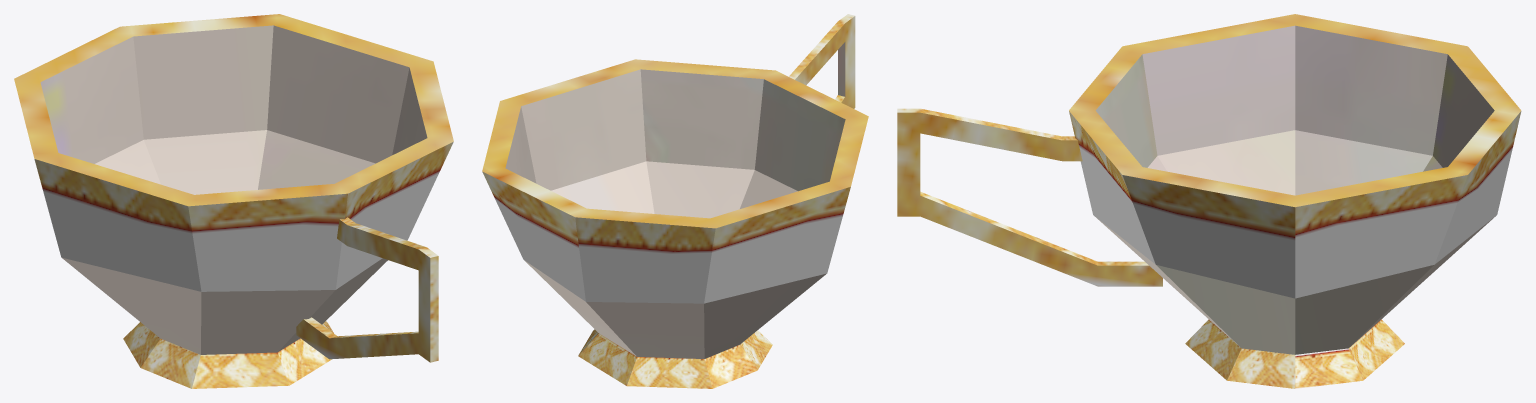
File: TeaCup.fbx
The picture shows the model from 3 angles, left to right: view 1: azimuth 30°, elevation 25°; view 2: azimuth 150°, elevation 25°; view 3: azimuth 270°, elevation 25°; orthographic projection. The views are drawn at different scales.
Visible parts, largest first — view 1: Cube; view 2: Cube; view 3: Cube.
Part boxes in pixels (x1,y1,x2,y2): Cube: (14,14,453,388); Cube: (482,14,868,388); Cube: (897,14,1521,388).
Bounding box in the file's own units: 598 × 336 × 816.
1 material, 1 textured.
